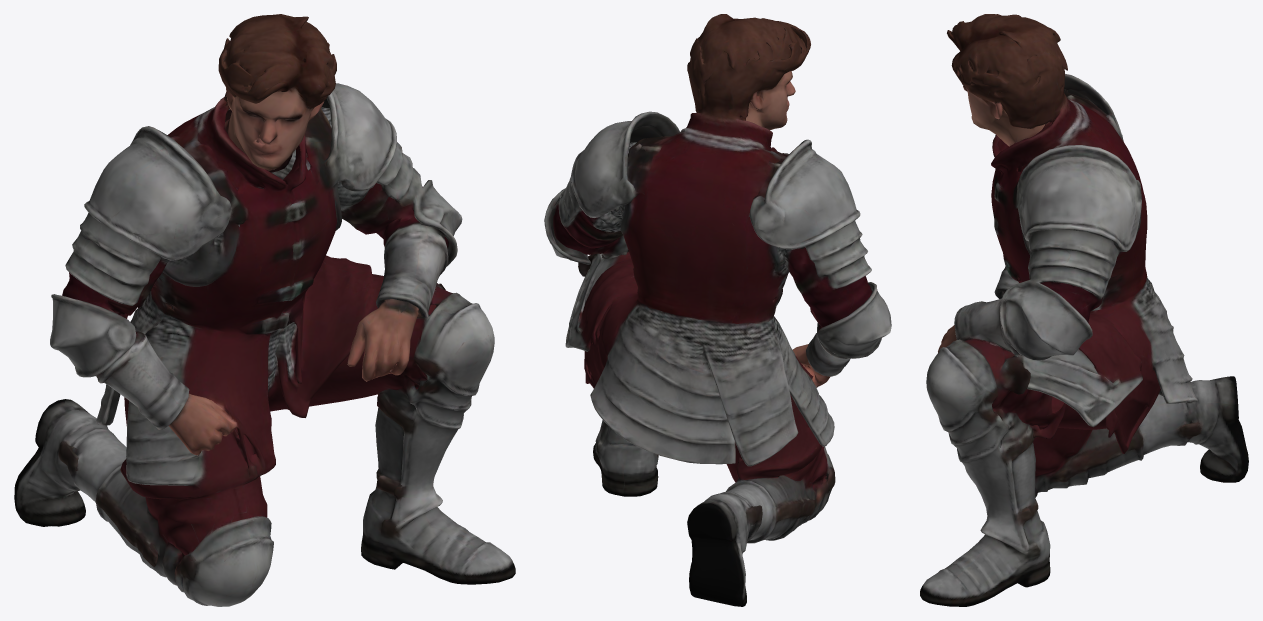
The model's file is generation_knight_1.glb.
The picture shows the model from 3 angles, left to right: view 1: azimuth 30°, elevation 25°; view 2: azimuth 150°, elevation 25°; view 3: azimuth 270°, elevation 25°; orthographic projection. The views are drawn at different scales.
Parts seen in each view (by area): view 1: geometry_0; view 2: geometry_0; view 3: geometry_0.
Part boxes in pixels (x1,y1,x2,y2): geometry_0: (14, 14, 515, 606); geometry_0: (544, 14, 891, 606); geometry_0: (920, 14, 1248, 606).
Size of the model in its own units: 0.7436 by 1 by 0.5948.
Materials: 1 (1 with a texture image).
